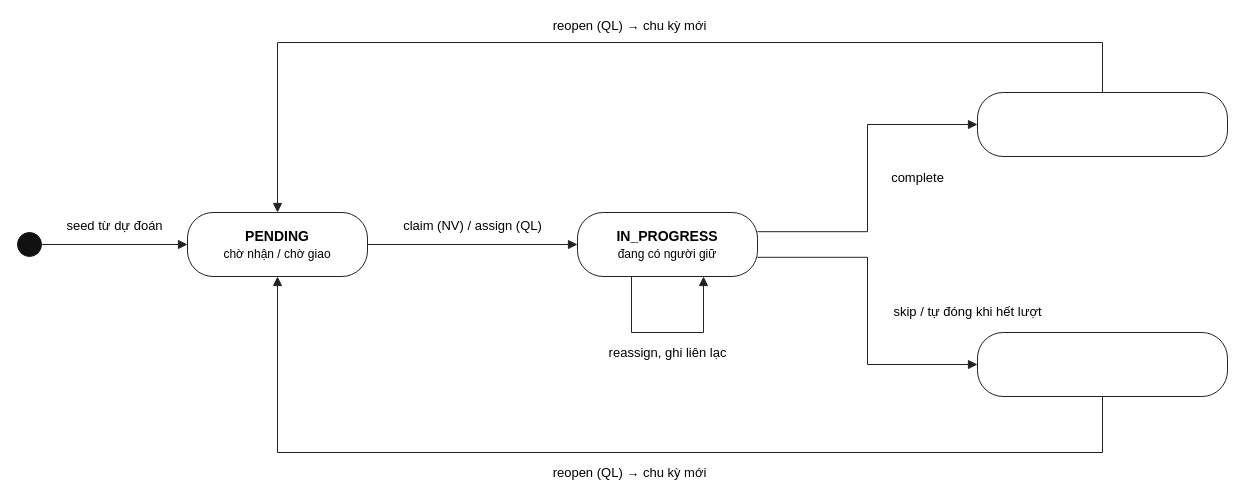
The diagram is 1245 pixels wide and 498 high, and some of its shapes have lost their labels. The box of each missing label's shape, as (x1, y1, x2, y2) in pixels:
COMPLETED HAS_ISSUE / NO_ISSUE / DUPLICATE: (976, 92, 1228, 156)
SKIPPED UNREACHABLE / REFUSED / ...: (976, 332, 1228, 396)
